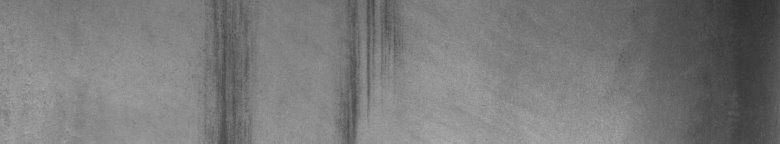ka: (344, 4, 403, 136)
